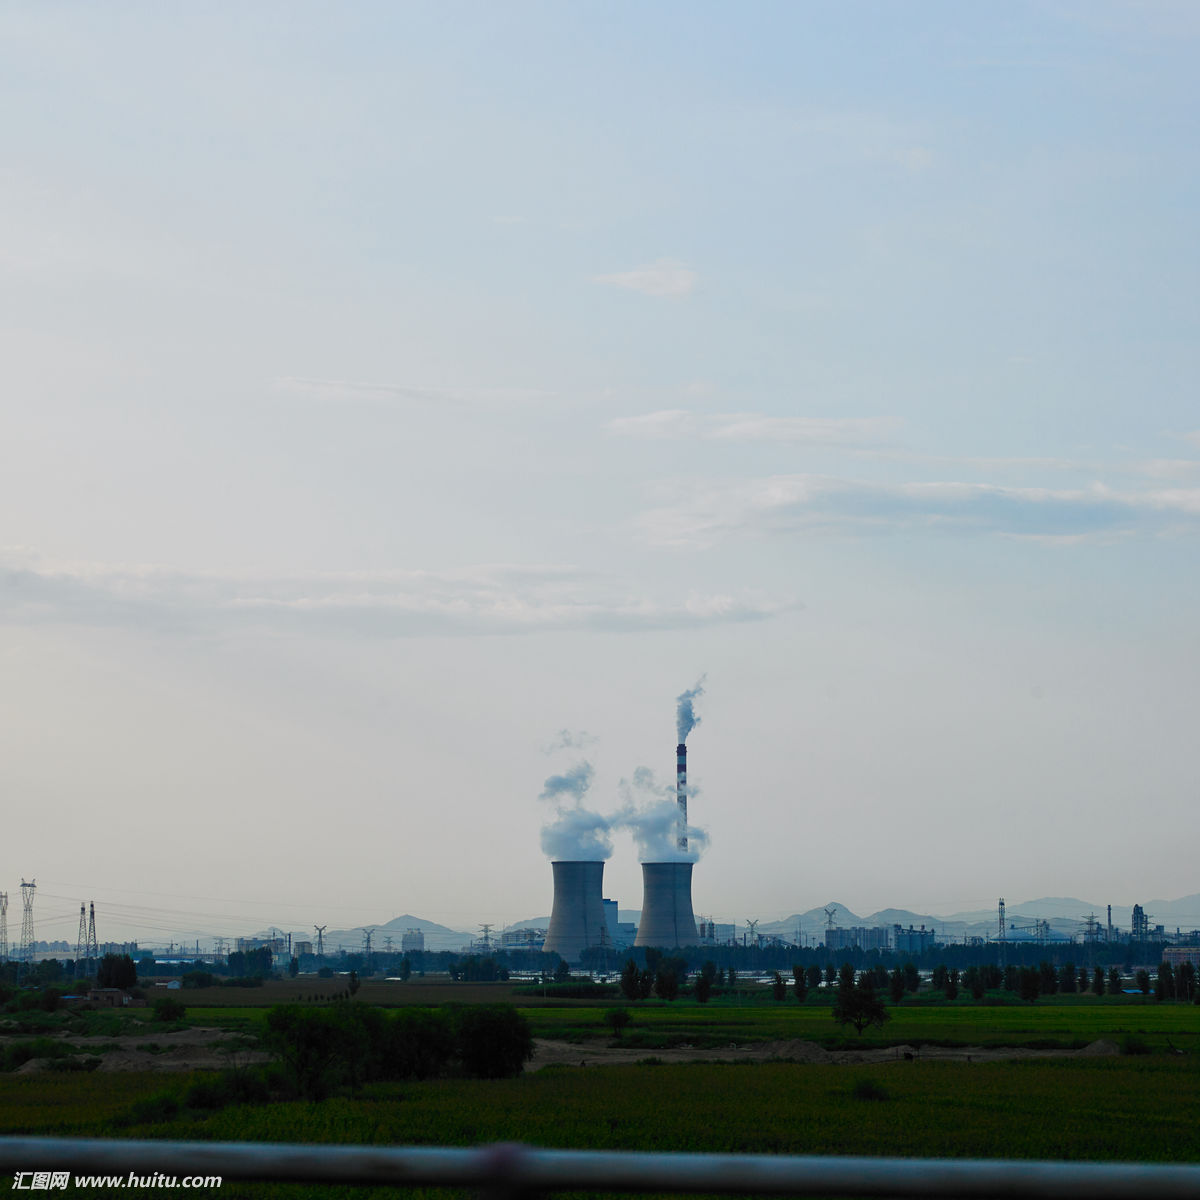dust: (535, 754, 622, 876), (615, 791, 724, 882)
